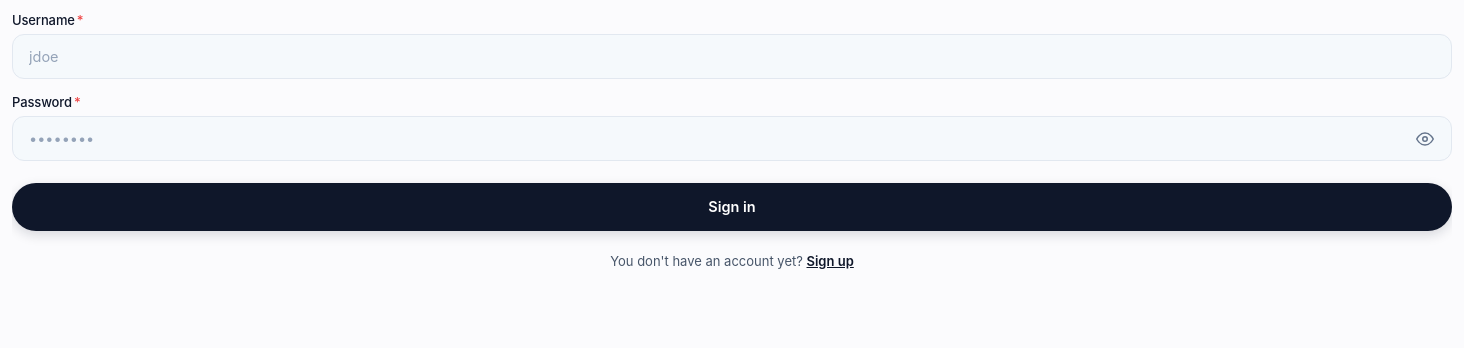
Scenario: LoginForm — connexion › envoie le nom d’utilisateur sans espaces et le mot de passe, puis signale le succès
This screenshot has width=1464, height=348.
Type "  jdoe  " into the field labelled "Username*" at [732, 56], box 12,34 -> 1452,79
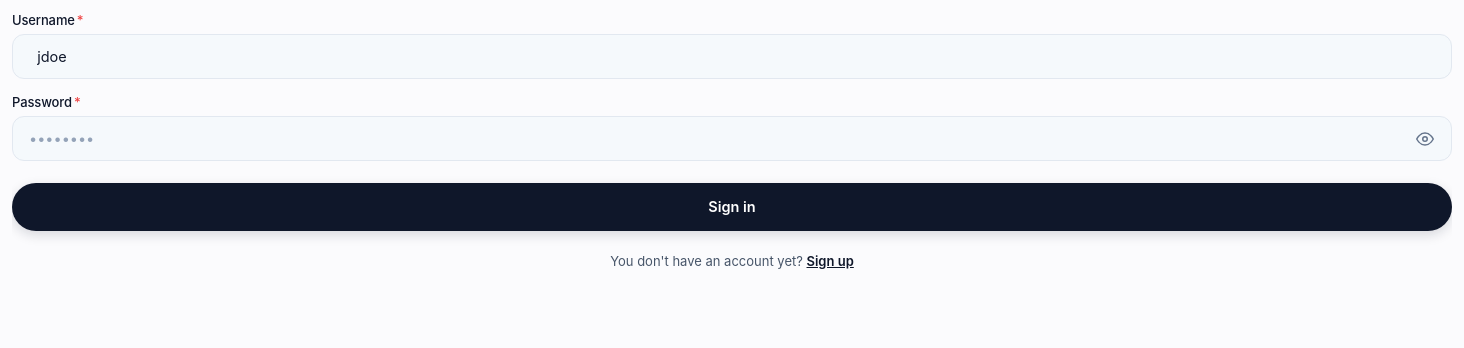
Type "secret123" into the password field labelled "Password*" at [732, 138], box 12,116 -> 1452,161
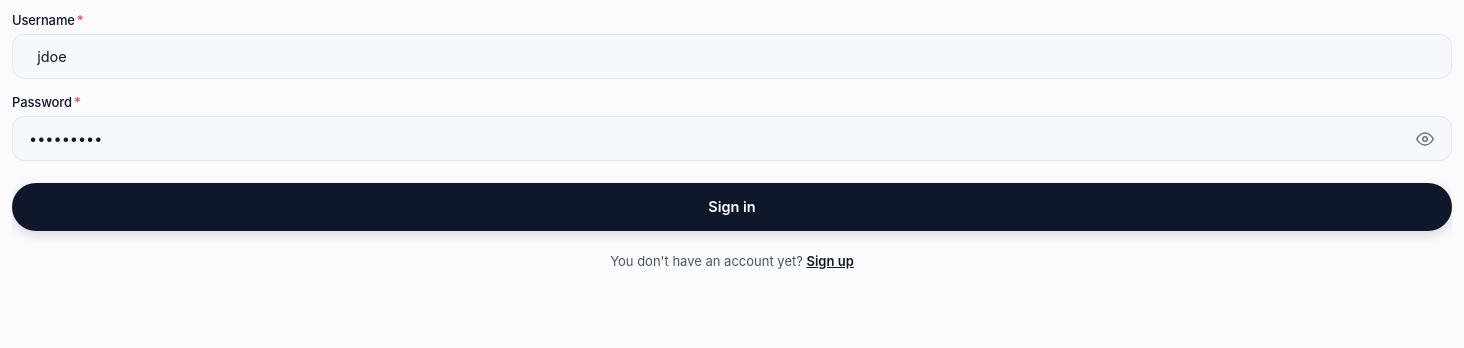
Click the button "Sign in" at [732, 207], box 12,183 -> 1452,231
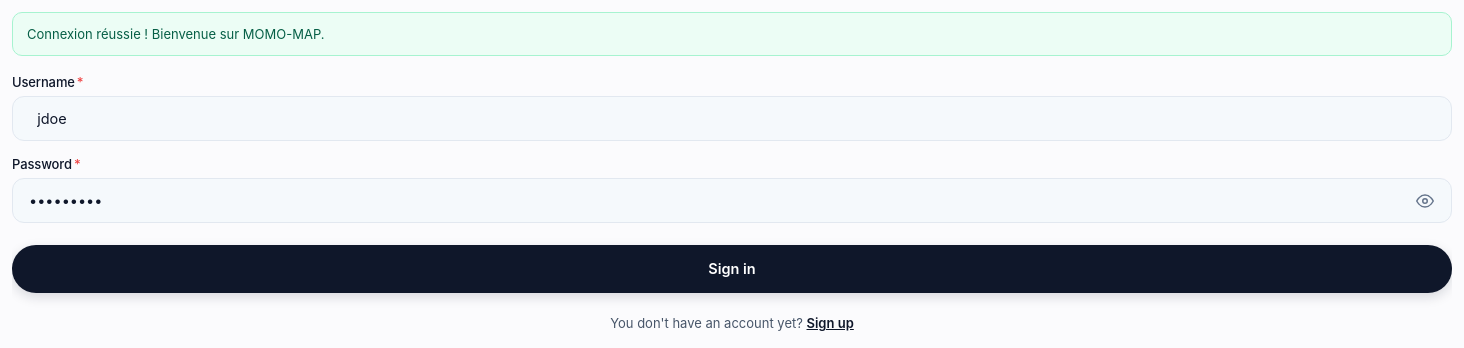
expect the text "Connexion réussie ! Bienvenue sur MOMO-MAP." is shown: met, box 12,12 -> 1452,56
